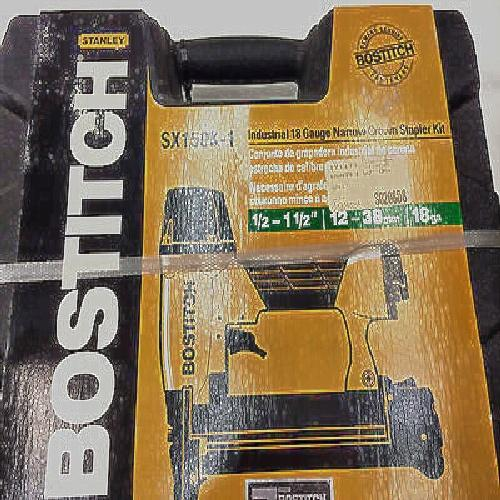stapler: (46, 30, 467, 488)
